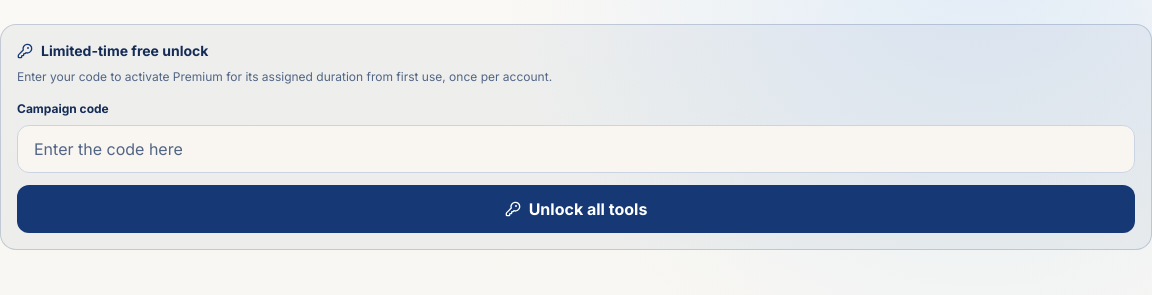
Test: Ibn Al-Baytar campaign activation › does not claim success when the backend is unavailable
Type "ابن البيطار" into the field labelled "Campaign code" at (576, 149), box [17,125,1135,173]
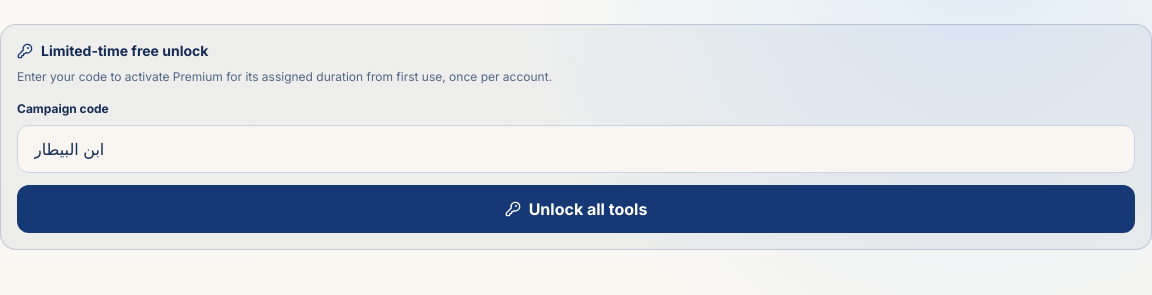
Click the button "Unlock all tools" at (576, 209), box [17,185,1135,233]
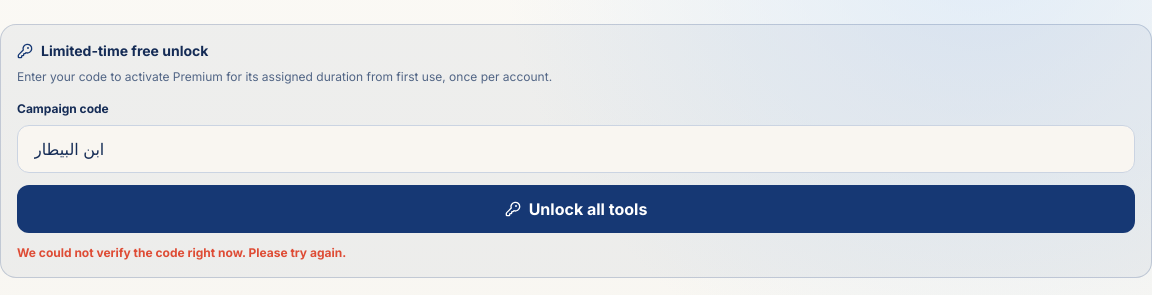
expect the message shows "could not verify": met, box [17,245,346,260]
